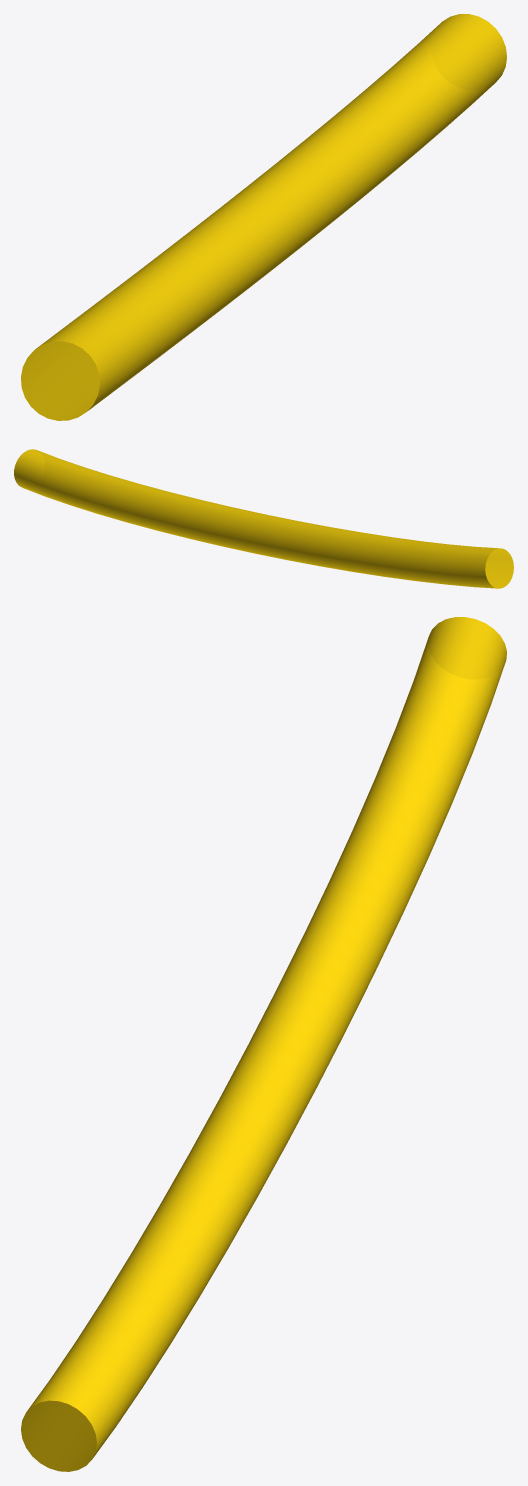
The model's file is Event_421115418_track_140.fbx.
3 renders of one model, top to bottom at view 1: azimuth 90°, elevation 25°; view 2: azimuth 150°, elevation 25°; view 3: azimuth 270°, elevation 25°, orthographic. The views are drawn at different scales.
Visible parts, largest first — view 1: Model; view 2: Model; view 3: Model.
Boxes of the visible parts, box(x1,y1,x2,y2) form: Model: box(21, 14, 506, 420); Model: box(14, 449, 513, 588); Model: box(21, 617, 506, 1471).
Size of the model in its own units: 0.6649 by 0.164 by 0.2396.
